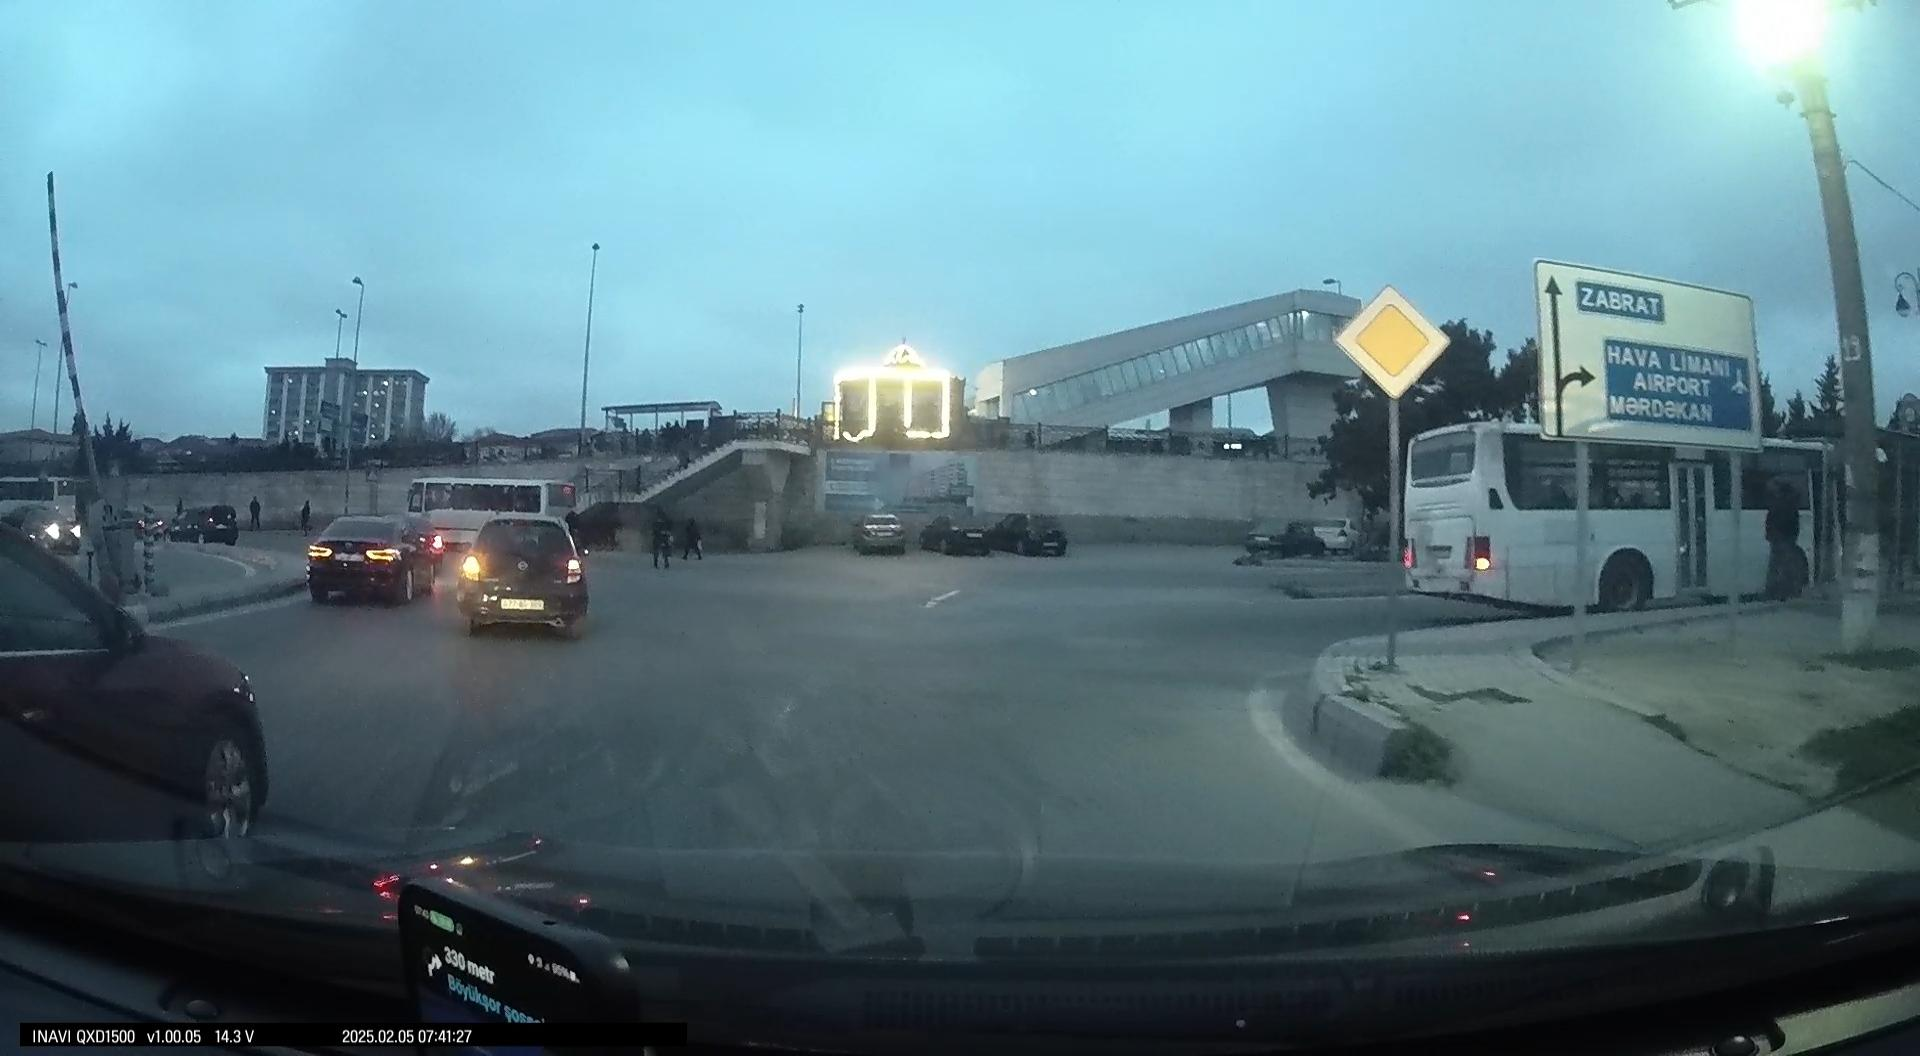banner: (1533, 250, 1767, 455), (823, 449, 980, 520)
